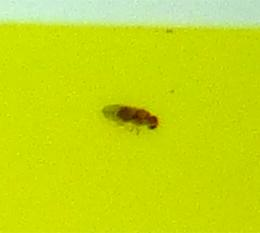Brachycera: (100, 100, 160, 133)
